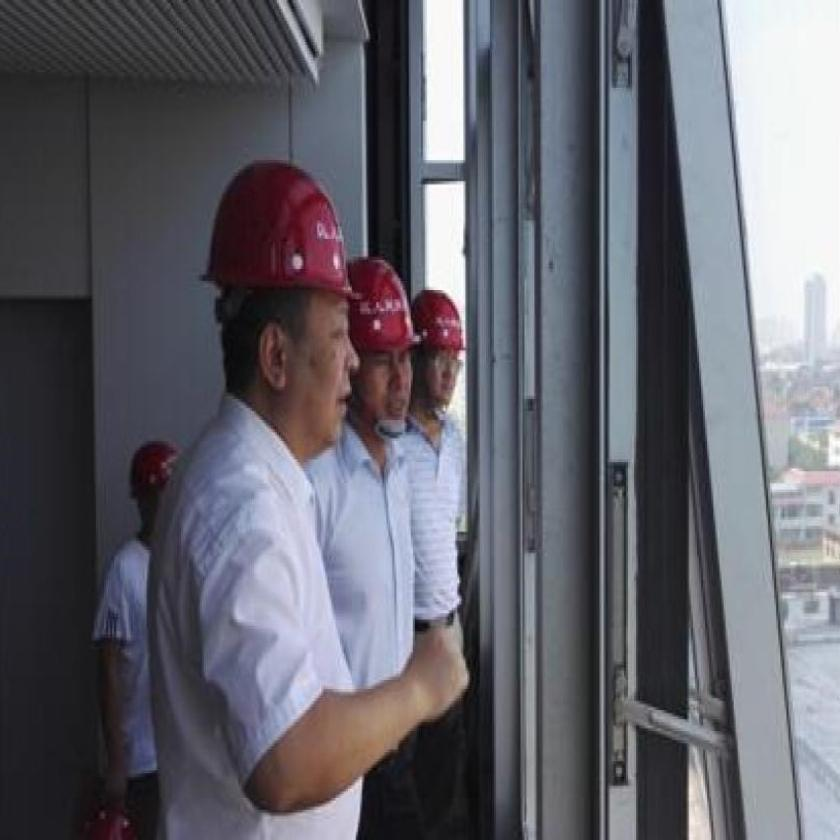Con_casco: (197, 150, 364, 486), (338, 245, 418, 456), (412, 290, 470, 438)
